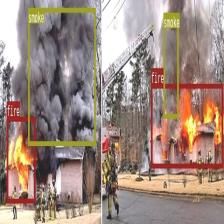fire: (150, 83, 222, 168), (6, 116, 35, 202)
smoke: (28, 8, 95, 144), (163, 12, 178, 117)
